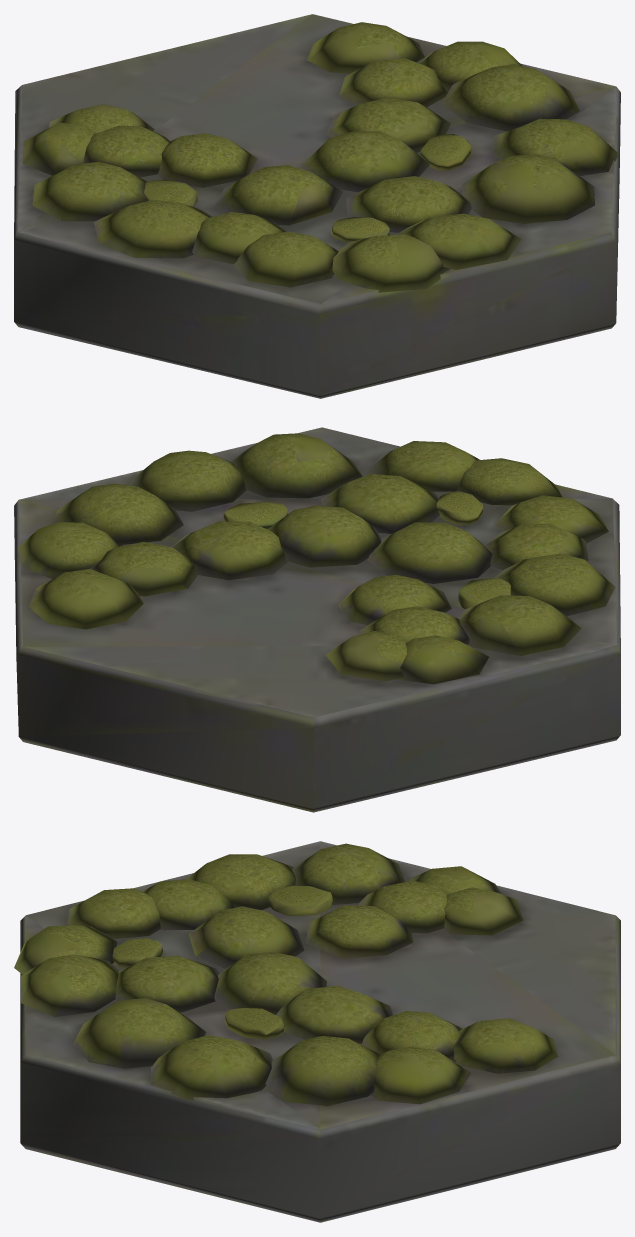
File: floor-forest.glb
The picture shows the model from 3 angles, top to bottom: view 1: azimuth 30°, elevation 25°; view 2: azimuth 150°, elevation 25°; view 3: azimuth 270°, elevation 25°; orthographic projection.
Size of the model in its own units: 0.9521 by 0.1997 by 0.8364.
1 material, 1 textured.
